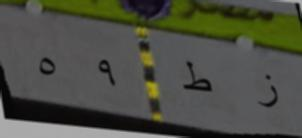5: (30, 50, 66, 82)
9: (92, 58, 122, 90)
Taa: (177, 58, 215, 96)
zay: (254, 67, 282, 115)
